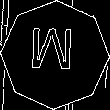M_S: (31, 29, 79, 81)
